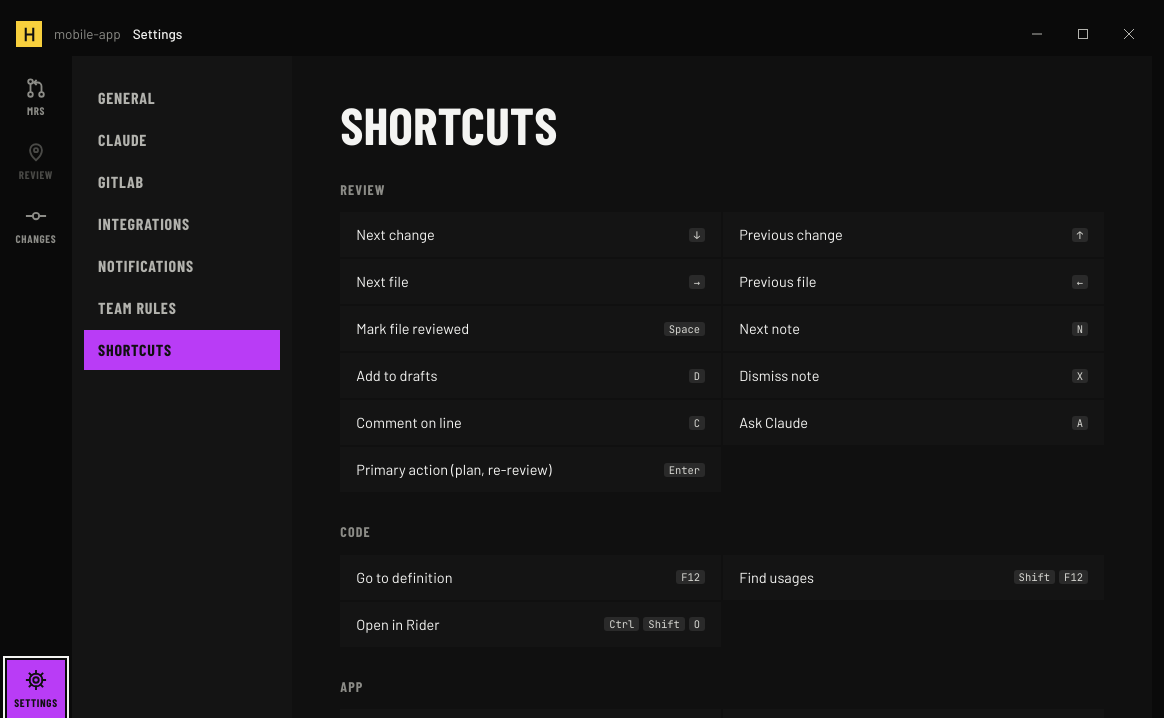
Settings › Shortcuts › ending a capture (F-19.7) › F-19.7 clicking the waiting keys again cancels the capture without a change
Click the button named "Change shortcut for Next note" at (1080, 329), box x1=1068 y1=315 x2=1092 y2=343
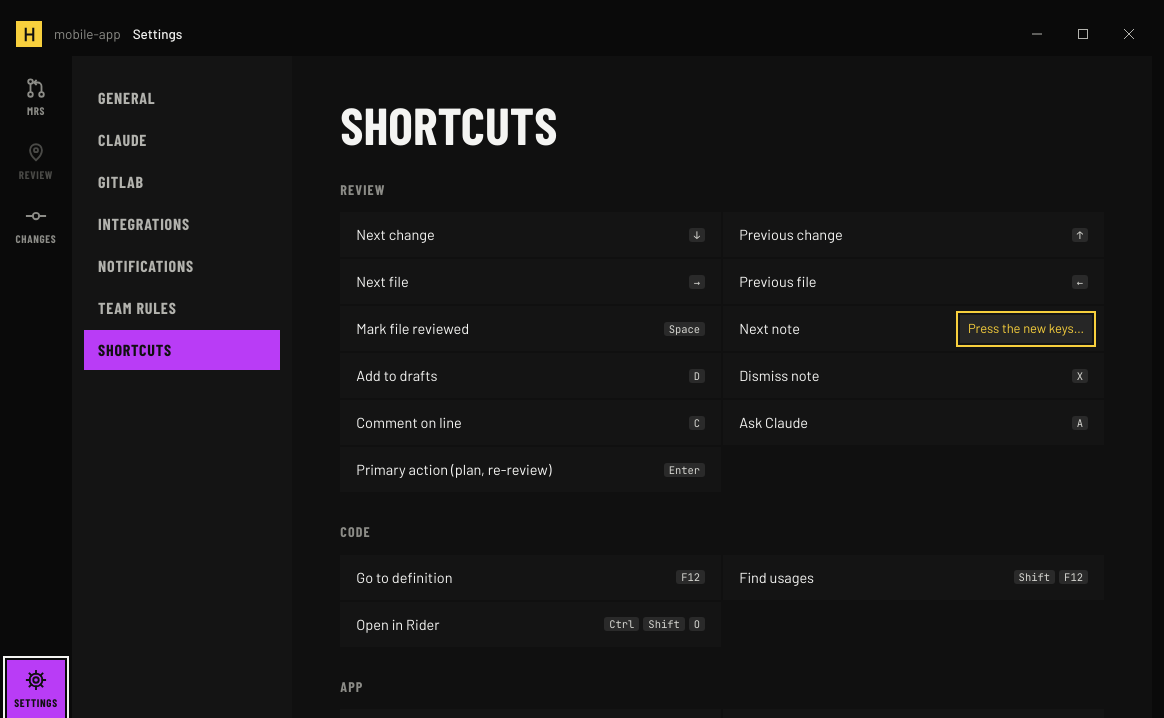
Expected: the text "Press the new keys…" is shown, x1=964 y1=319 x2=1088 y2=338
Click the button with aria-label "Change shortcut for Next note" at (1026, 329), box x1=960 y1=315 x2=1092 y2=343
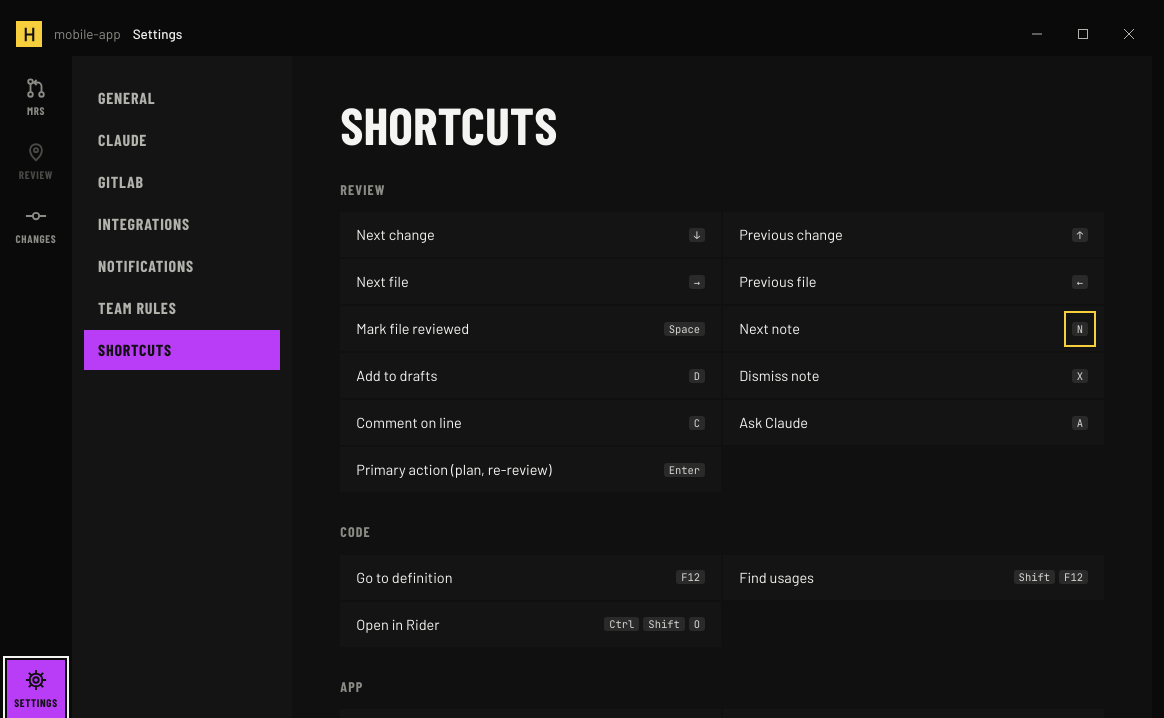
Expected: the text "Press the new keys…" is gone
